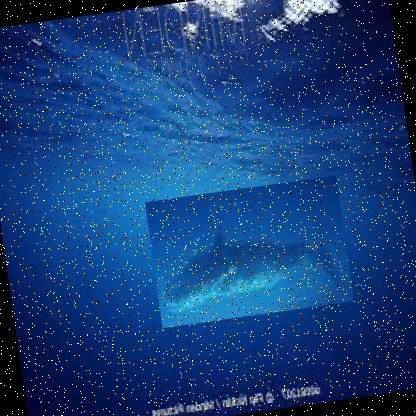sperm_whale: (144, 175, 354, 329)
